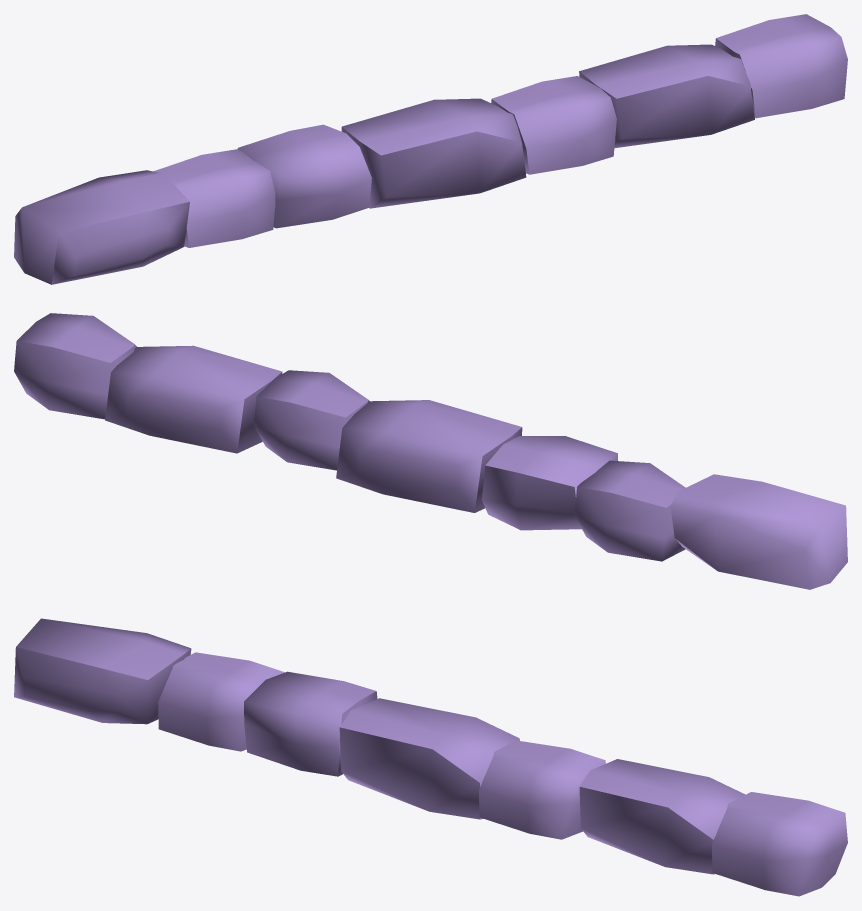
File: stone_row_a.fbx
3 renders of one model, top to bottom at view 1: azimuth 30°, elevation 25°; view 2: azimuth 150°, elevation 25°; view 3: azimuth 330°, elevation 25°, orthographic.
Parts seen in each view (by area): view 1: Cube.127; view 2: Cube.127; view 3: Cube.127.
Part boxes in pixels (left/top/right/bottom): Cube.127: left=14, top=14, right=847, bottom=284; Cube.127: left=14, top=313, right=847, bottom=589; Cube.127: left=14, top=618, right=847, bottom=896.
Size of the model in its own units: 5.3 by 0.4342 by 0.681.
